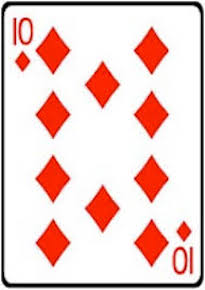TenOfDiamonds: (6, 9, 197, 279)
